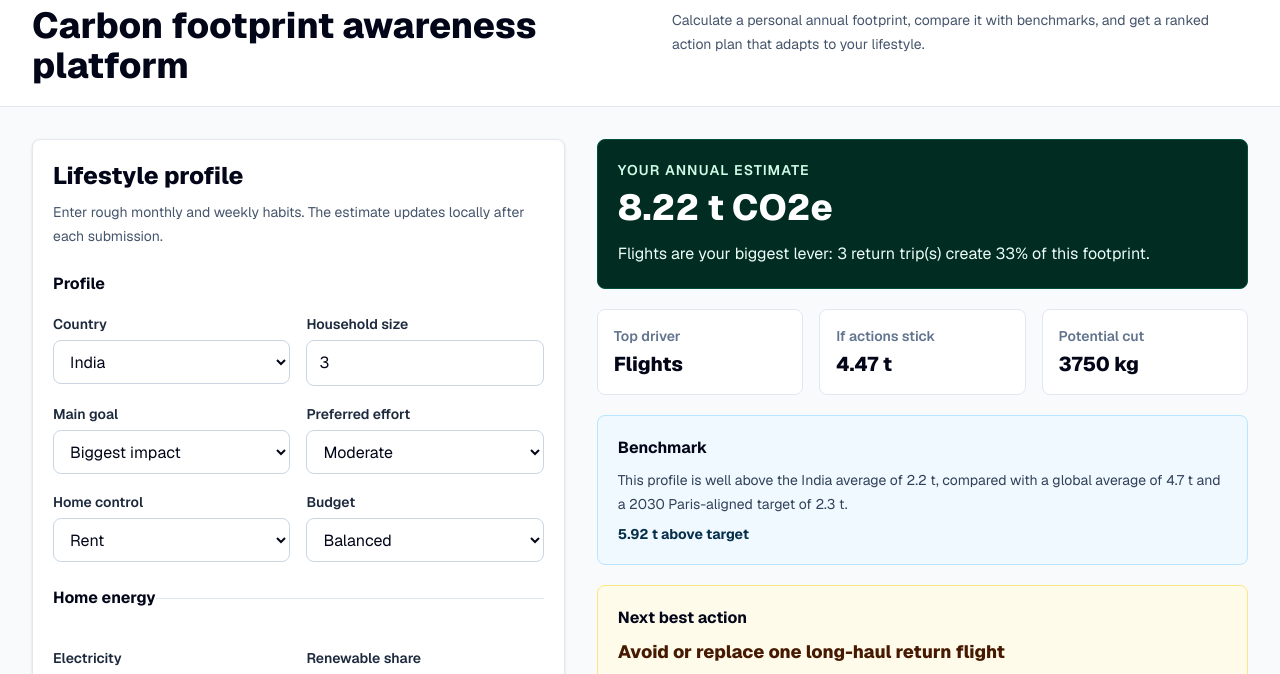
Scenario: CarbonCoachApp › blocks submission and shows field errors for invalid input
Replace the text in the number field labelled "Household size" with "0": (425, 363) [307,341,543,385]
(page scrolled)
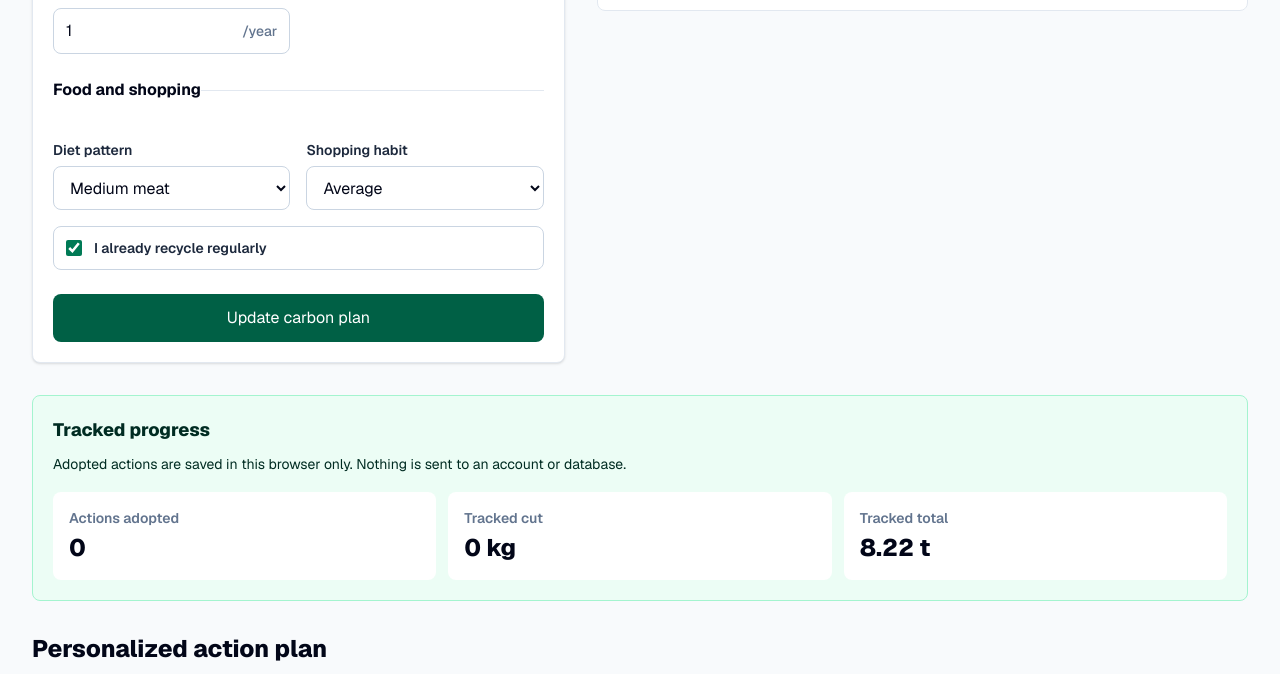
Click the button "Update carbon plan": click(298, 318) [53,294,544,342]
(page scrolled)
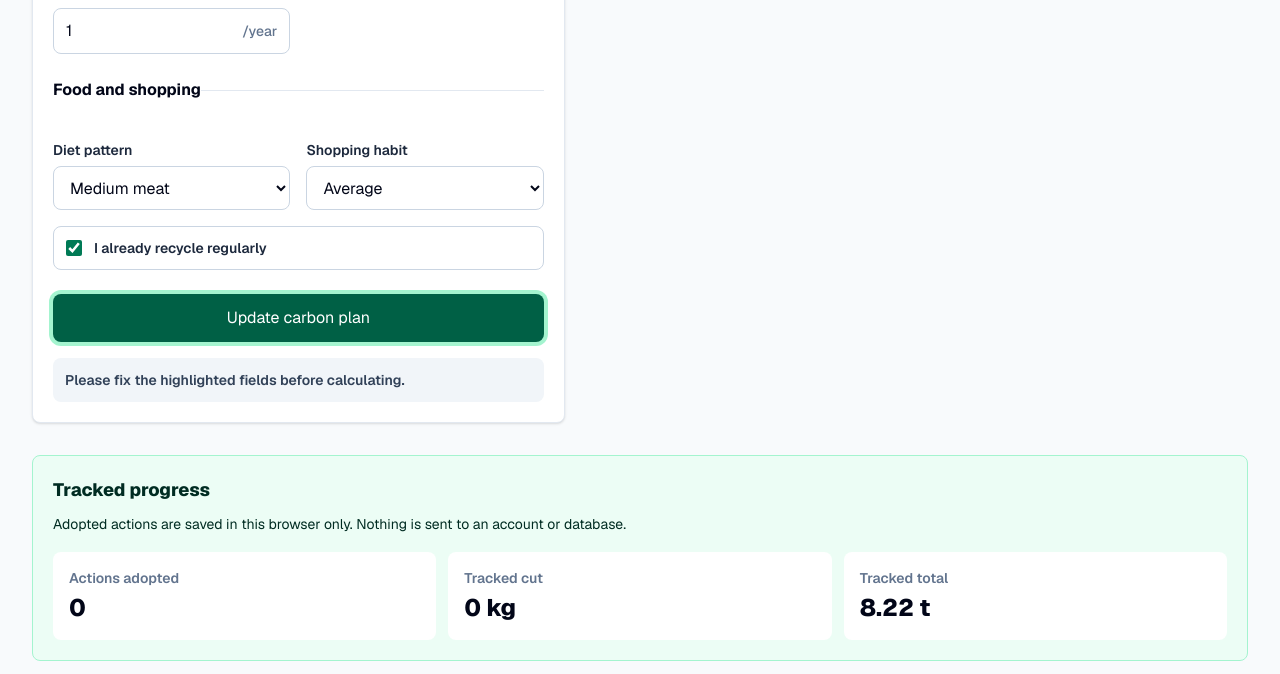
expect the text "Please fix the highlighted fields before calculating." is shown: met, box [53,358,544,402]
